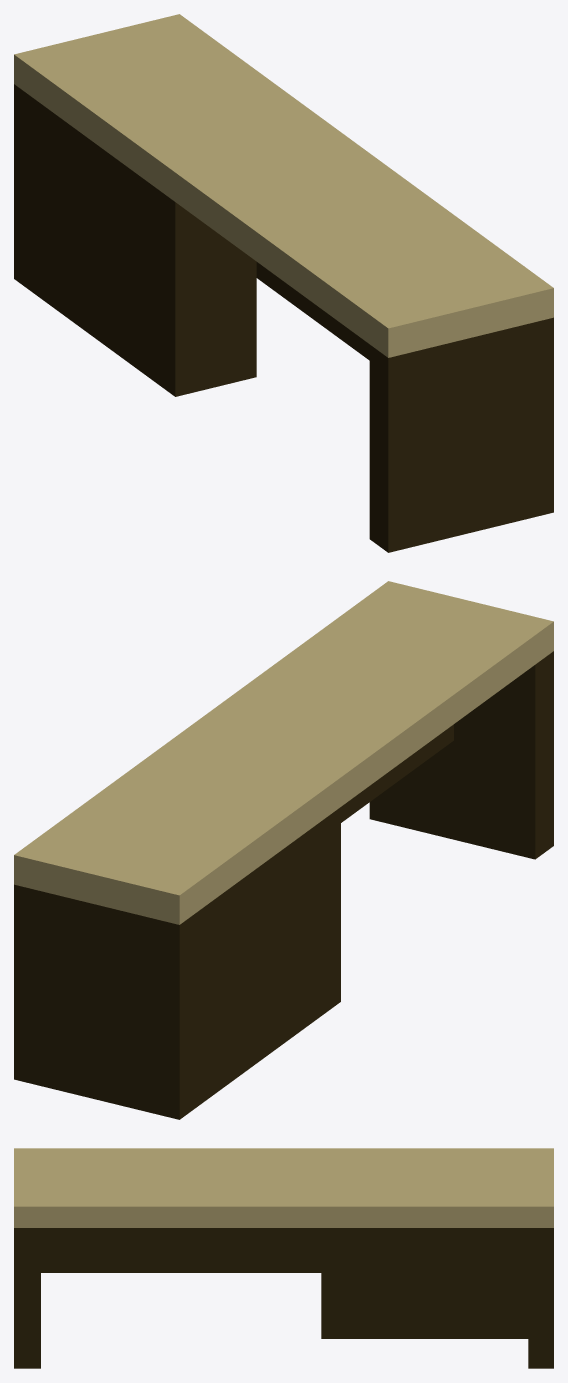
Rendered from schoolprincipaltable.fbx.
The picture shows the model from 3 angles, top to bottom: view 1: azimuth 30°, elevation 25°; view 2: azimuth 150°, elevation 25°; view 3: azimuth 270°, elevation 25°; orthographic projection. The views are drawn at different scales.
Visible parts, largest first — view 1: School Principal Table; view 2: School Principal Table; view 3: School Principal Table.
Boxes of the visible parts, x1,y1,x2,y2 form: School Principal Table: (14,14,553,552); School Principal Table: (14,581,553,1119); School Principal Table: (14,1148,553,1368).
Bounding box in the file's own units: 97.83 × 127 × 383.
